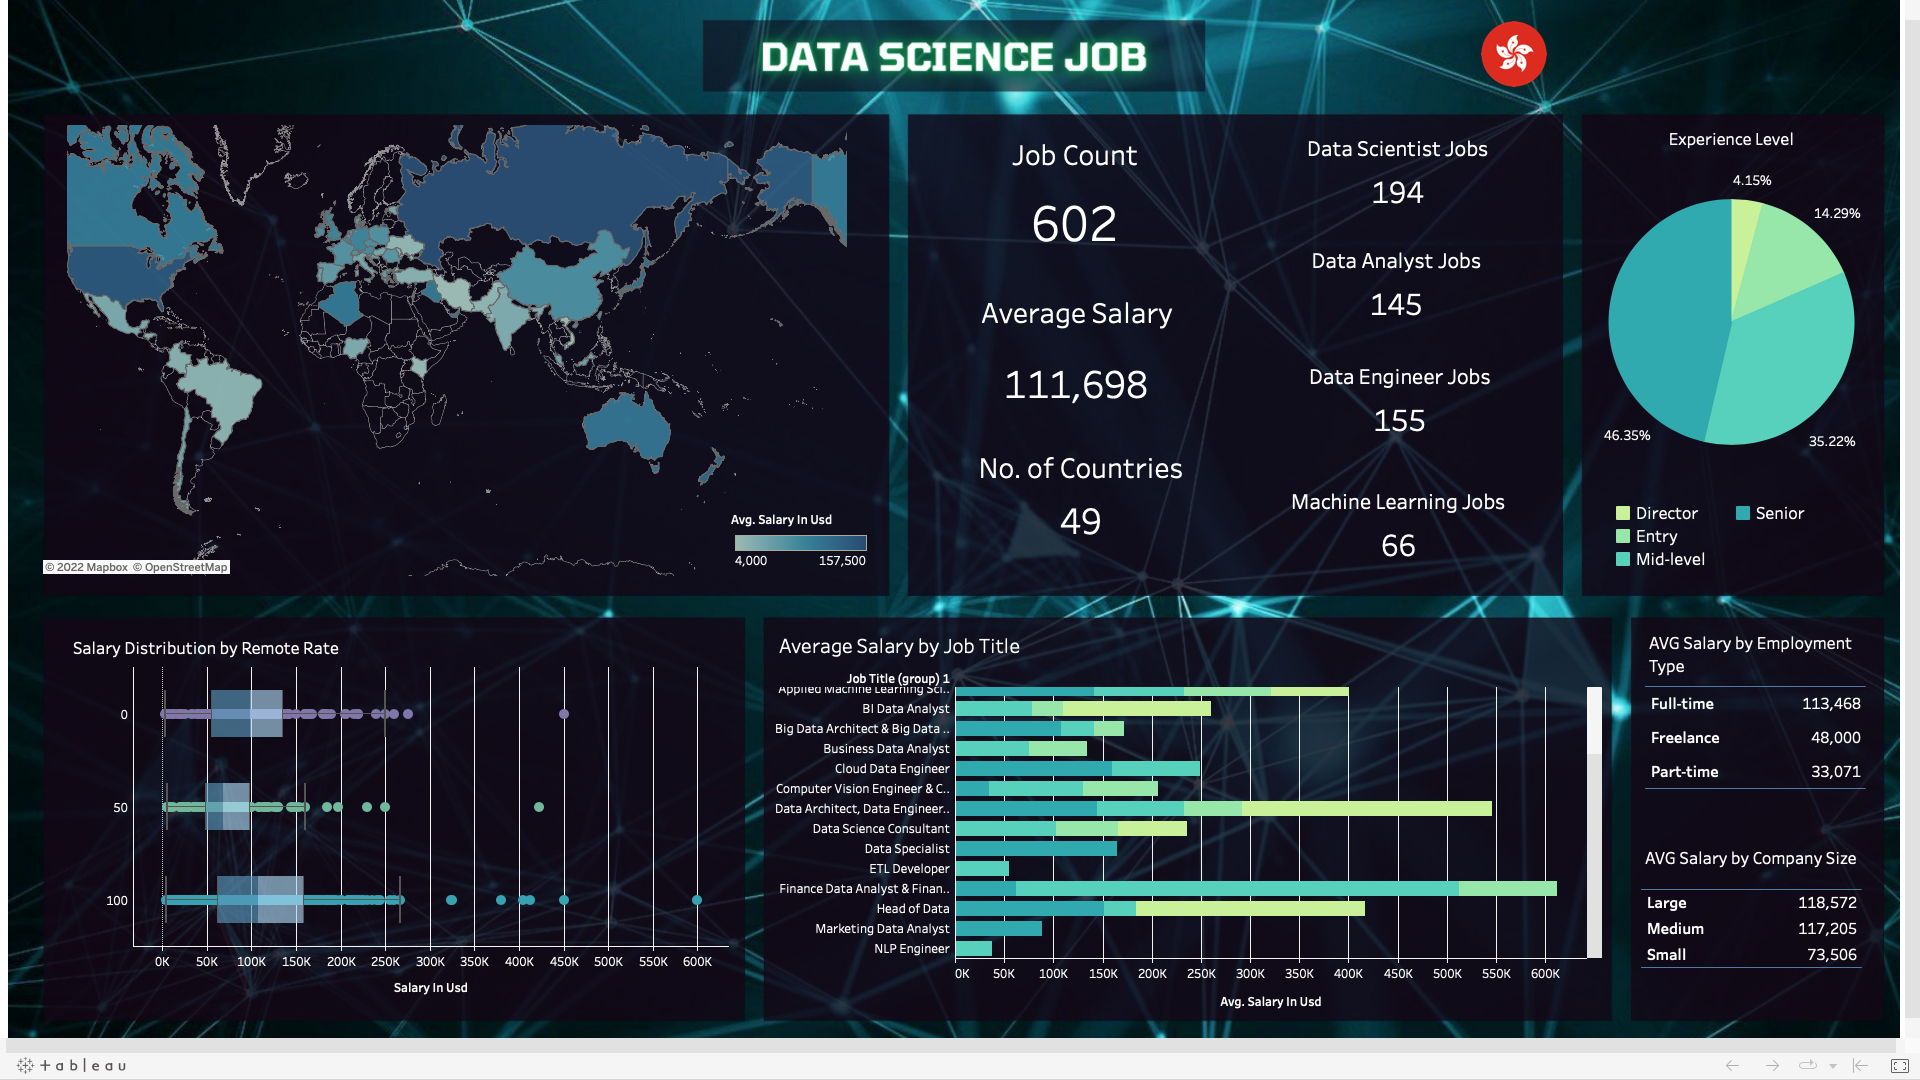

The page's visual inventory and layout, read from the dashboard file:
{"tool":"tableau","page":{"name":"Dashboard 1","canvas":[1920,1080],"ordinal":0},"visuals":[{"type":"image","param":"Image/Data Science Job (2).png","box":[8,8,1904,1064]},{"type":"dashboard-object","box":[1457,43,125,66]},{"type":"worksheet","title":"Experience Level","mark":"Pie","box":[1595,142,301,379]},{"type":"worksheet","title":"map","mark":"Automatic","box":[47,147,833,451]},{"type":"worksheet","title":"datascience","mark":"Automatic","box":[1256,150,300,115]},{"type":"worksheet","title":"total job","mark":"Automatic","box":[927,151,308,153]},{"type":"worksheet","title":"dataanalytics","mark":"Automatic","box":[1250,262,308,106]},{"type":"worksheet","title":"avg salary","mark":"Automatic","box":[920,309,326,139]},{"type":"worksheet","title":"data engineering","mark":"Automatic","box":[1266,378,296,126]},{"type":"worksheet","title":"countries count","mark":"Automatic","box":[944,464,292,126]},{"type":"worksheet","title":"machine learning","mark":"Automatic","box":[1257,503,296,107]},{"type":"legend","title":"Experience Level","param":"[federated.1bj16of1ugyzns1afl0h21kx8tt3].[none:experience_level:nk]","box":[1617,523,245,72]},{"type":"legend","title":"map","param":"[federated.1bj16of1ugyzns1afl0h21kx8tt3].[avg:salary_in_usd:qk]","box":[737,533,140,70]},{"type":"worksheet","title":"Average Salary by Job Title","mark":"Automatic","cols":["salary_in_usd"],"box":[781,647,830,390]},{"type":"worksheet","title":"Exployment","mark":"Automatic","rows":["employment_type"],"box":[1651,647,240,204]},{"type":"worksheet","title":"Remote","mark":"Circle","rows":["remote_ratio"],"cols":["salary_in_usd"],"box":[75,651,660,372]},{"type":"worksheet","title":"Company Size","mark":"Automatic","rows":["company_size"],"box":[1647,850,232,180]}]}

Visuals, with their boxes on the page's 1920x1080 design canvas (x1, y1, x2, y2). These are canvas units, not pixel positions in the 1920x1080 screenshot, which may show the page scaled, cropped or inside an application window:
image: [8, 8, 1912, 1072]
dashboard-object: [1457, 43, 1582, 109]
"Experience Level" worksheet (Pie marks): [1595, 142, 1896, 521]
"map" worksheet: [47, 147, 880, 598]
"datascience" worksheet: [1256, 150, 1556, 265]
"total job" worksheet: [927, 151, 1235, 304]
"dataanalytics" worksheet: [1250, 262, 1558, 368]
"avg salary" worksheet: [920, 309, 1246, 448]
"data engineering" worksheet: [1266, 378, 1562, 504]
"countries count" worksheet: [944, 464, 1236, 590]
"machine learning" worksheet: [1257, 503, 1553, 610]
"Experience Level" legend: [1617, 523, 1862, 595]
"map" legend: [737, 533, 877, 603]
"Average Salary by Job Title" worksheet: [781, 647, 1611, 1037]
"Exployment" worksheet: [1651, 647, 1891, 851]
"Remote" worksheet (Circle marks): [75, 651, 735, 1023]
"Company Size" worksheet: [1647, 850, 1879, 1030]
